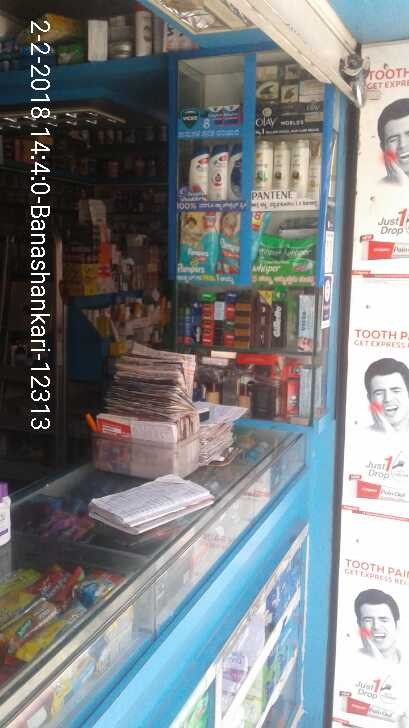beauty: (272, 139, 290, 206), (290, 134, 308, 200), (190, 145, 211, 198), (209, 143, 228, 201), (254, 141, 274, 196), (229, 141, 242, 201), (297, 78, 328, 103), (309, 140, 322, 197), (257, 80, 281, 107), (303, 100, 322, 130), (255, 64, 286, 81), (281, 80, 299, 105)
pharmacy: (176, 211, 217, 271), (221, 212, 267, 262), (247, 259, 312, 286), (285, 237, 317, 264), (258, 234, 283, 261), (222, 105, 241, 126), (206, 106, 223, 127)
